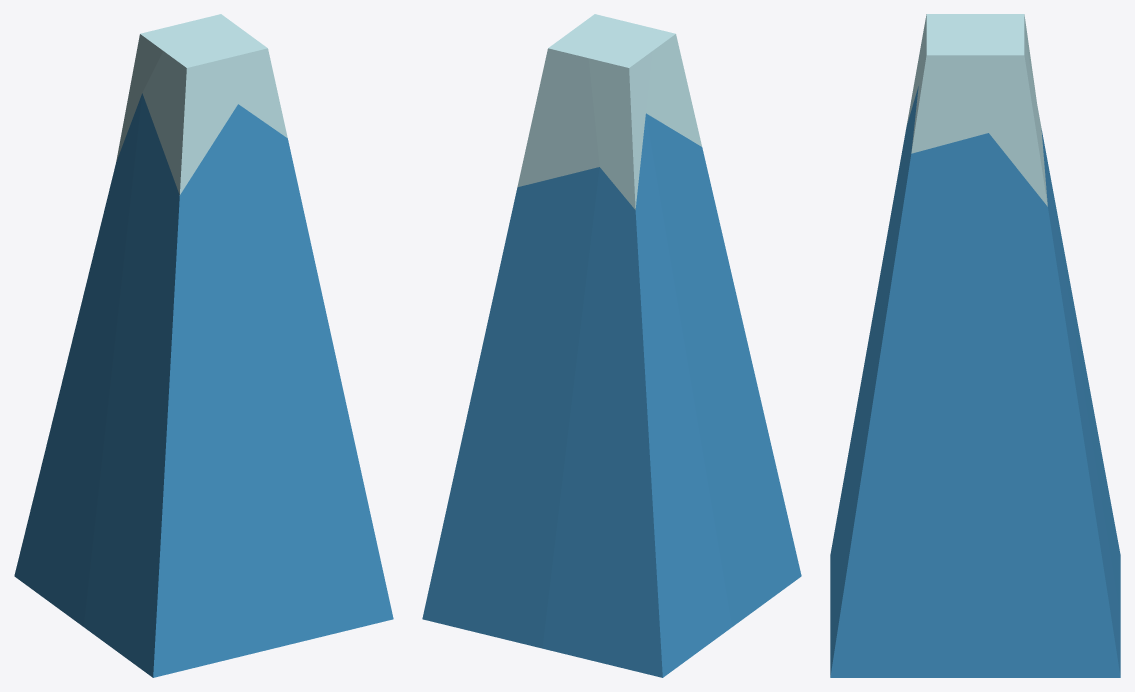
Rendered from mountain.fbx.
The picture shows the model from 3 angles, left to right: view 1: azimuth 30°, elevation 25°; view 2: azimuth 150°, elevation 25°; view 3: azimuth 270°, elevation 25°; orthographic projection. The views are drawn at different scales.
Visible parts, largest first — view 1: mountain; view 2: mountain; view 3: mountain.
Boxes of the visible parts, x1,y1,x2,y2 form: mountain: (14,14,393,677); mountain: (422,14,801,677); mountain: (830,14,1120,677).
Size of the model in its own units: 1.35 by 3 by 1.35.
